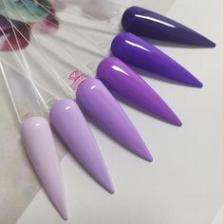purple: (111, 31, 203, 88)
